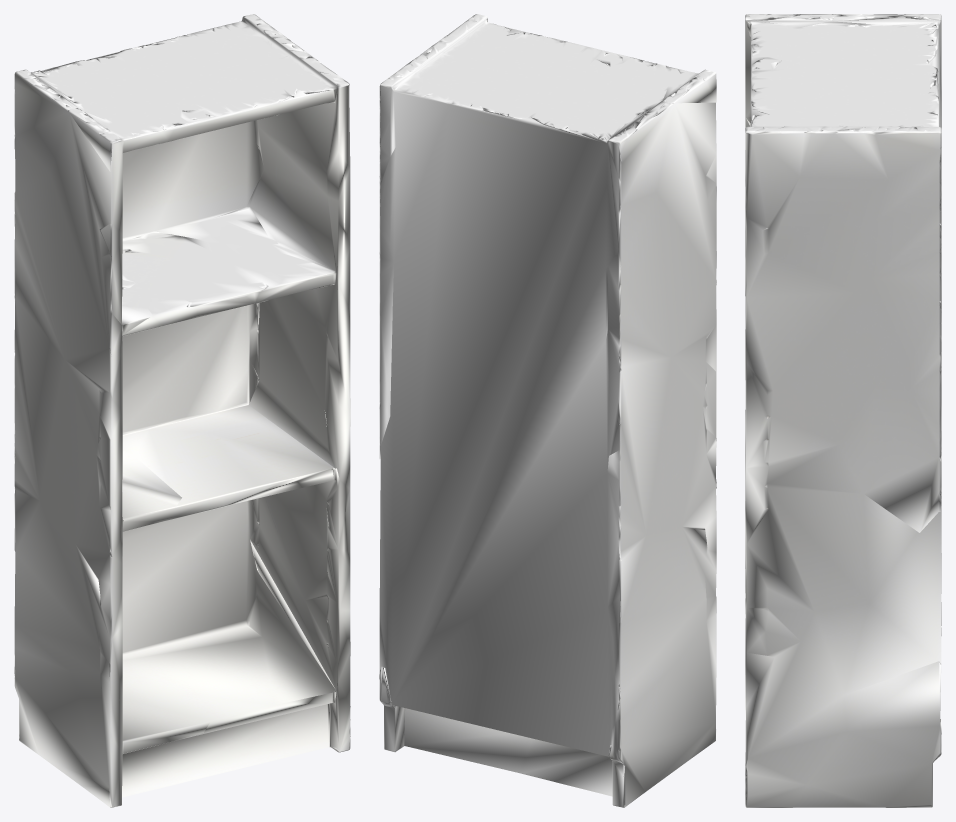
File: meshy-ikea-10522037.glb
The picture shows the model from 3 angles, left to right: view 1: azimuth 30°, elevation 25°; view 2: azimuth 150°, elevation 25°; view 3: azimuth 270°, elevation 25°; orthographic projection.
Visible parts, largest first — view 1: Exact catalog scale: ikea-10522037; view 2: Exact catalog scale: ikea-10522037; view 3: Exact catalog scale: ikea-10522037.
Boxes of the visible parts, x1,y1,x2,y2 form: Exact catalog scale: ikea-10522037: [14, 14, 350, 807]; Exact catalog scale: ikea-10522037: [379, 14, 716, 807]; Exact catalog scale: ikea-10522037: [745, 14, 941, 807].
Size of the model in its own units: 0.4 by 1.06 by 0.279.
1 material, 1 textured.
